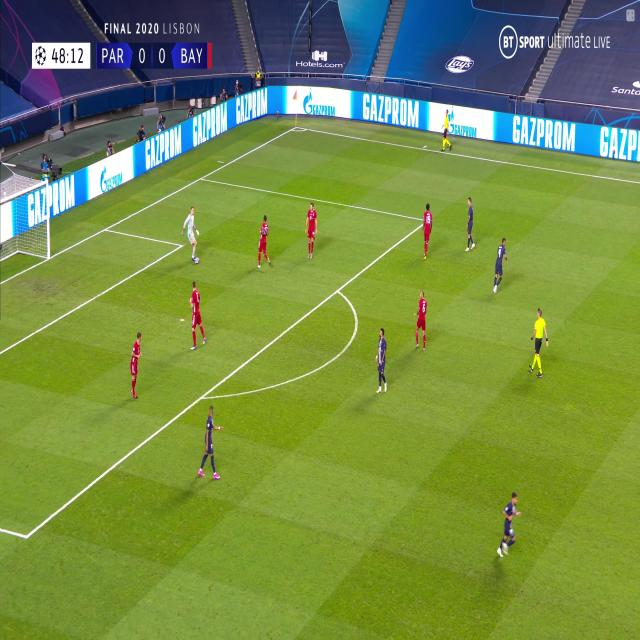ball: (195, 257, 200, 265)
player: (198, 404, 223, 479), (496, 489, 522, 558), (528, 306, 549, 378), (188, 280, 206, 351), (128, 331, 144, 401), (183, 205, 201, 264), (413, 289, 428, 354), (492, 235, 508, 294), (374, 327, 388, 394), (304, 200, 318, 262), (257, 214, 272, 270), (421, 202, 434, 260), (464, 195, 476, 252), (440, 108, 452, 153)
